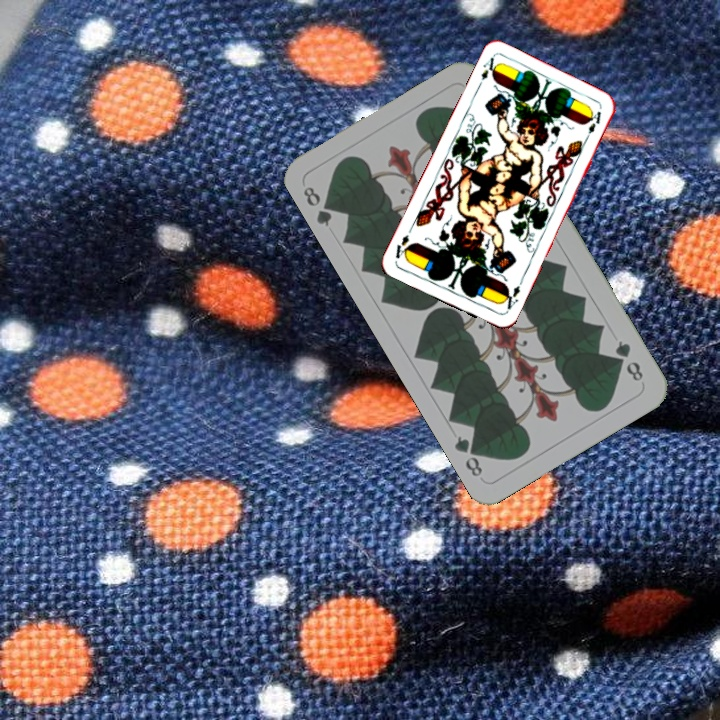EA: (473, 53, 502, 91), (498, 277, 525, 315)
G8: (299, 182, 340, 230), (610, 336, 646, 384)
